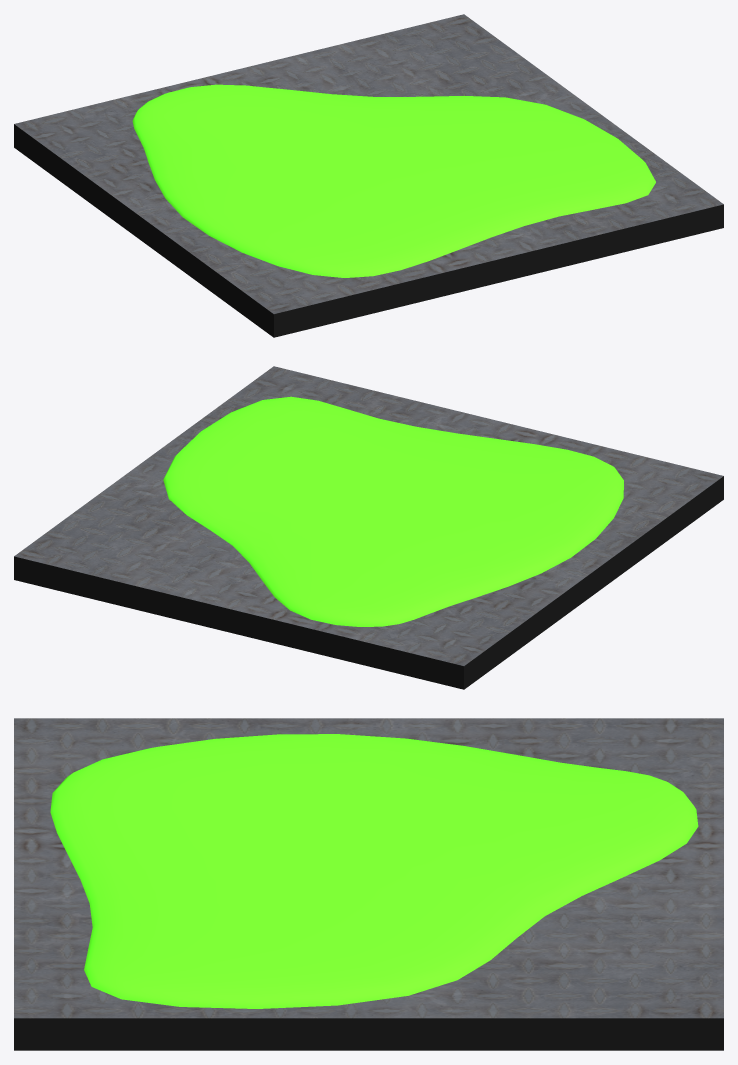
File: acid land.fbx
3 views of the same model, one above another, from view 1: azimuth 30°, elevation 25°; view 2: azimuth 150°, elevation 25°; view 3: azimuth 270°, elevation 25° (orthographic). The views are drawn at different scales.
Visible parts, largest first — view 1: acid tile; view 2: acid tile; view 3: acid tile.
Part boxes in pixels (x1=…): acid tile: x1=14, y1=14, x2=723, y2=337; acid tile: x1=14, y1=366, x2=723, y2=689; acid tile: x1=14, y1=718, x2=723, y2=1050.
Bounding box in the file's own units: 200 × 14.85 × 200.
